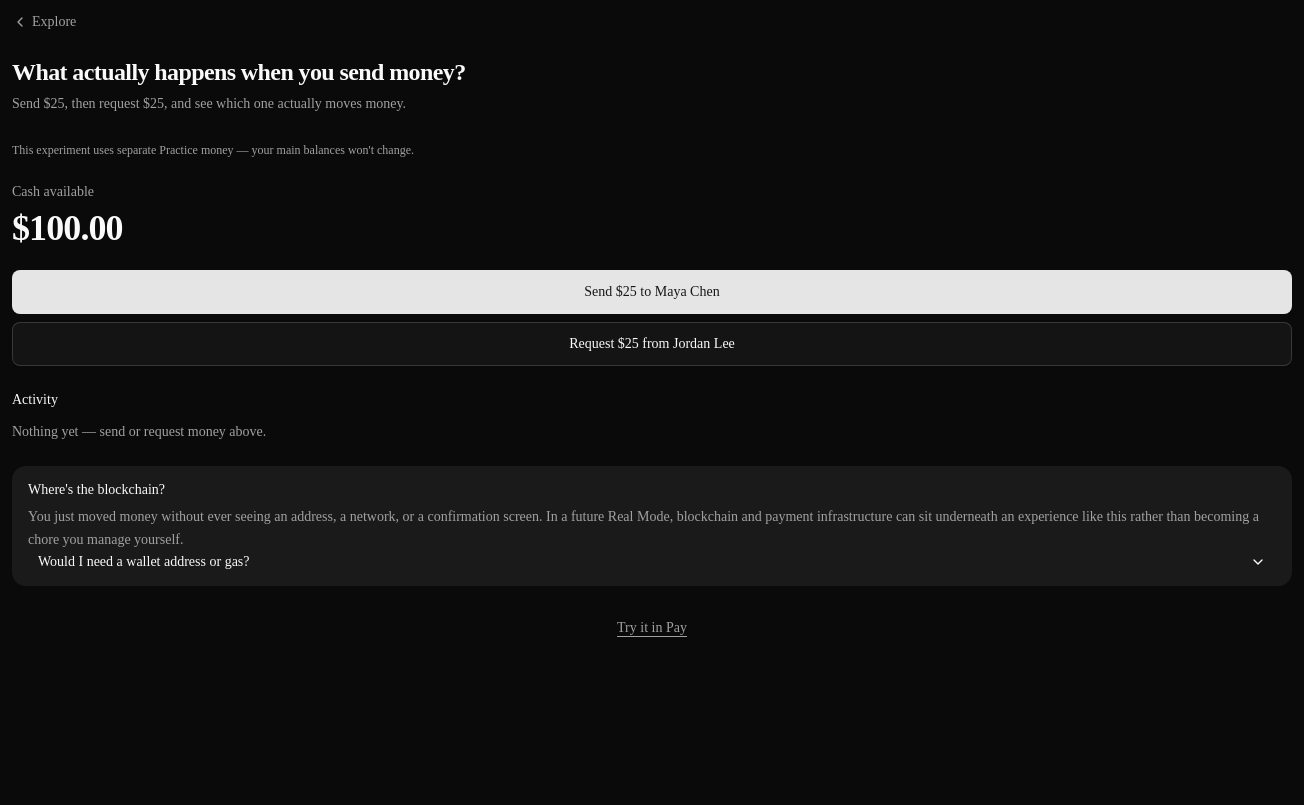
Test: PaymentsExperiment › sending moves cash immediately and records activity
What coordinates should you click on to do the following:
click the button "Send $25 to Maya Chen"
I would click on:
 (652, 292)
Its box is [12,270,1292,314].
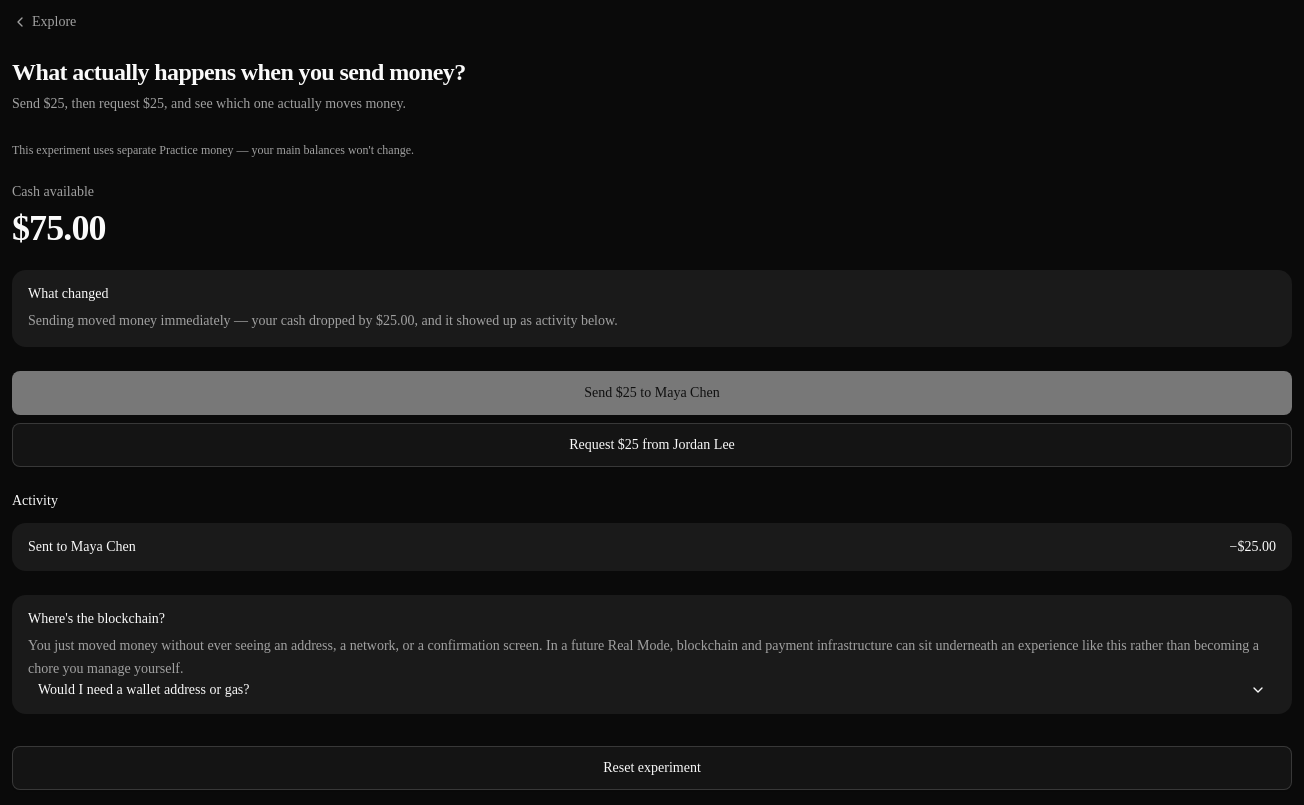
Expected: the text with test id "payments-experiment-cash" reads "$75.00", [12,208,106,248]
Expected: the text "Sent to Maya Chen" is shown, [28,537,136,557]
Expected: the text "What changed" is shown, [28,286,108,301]
